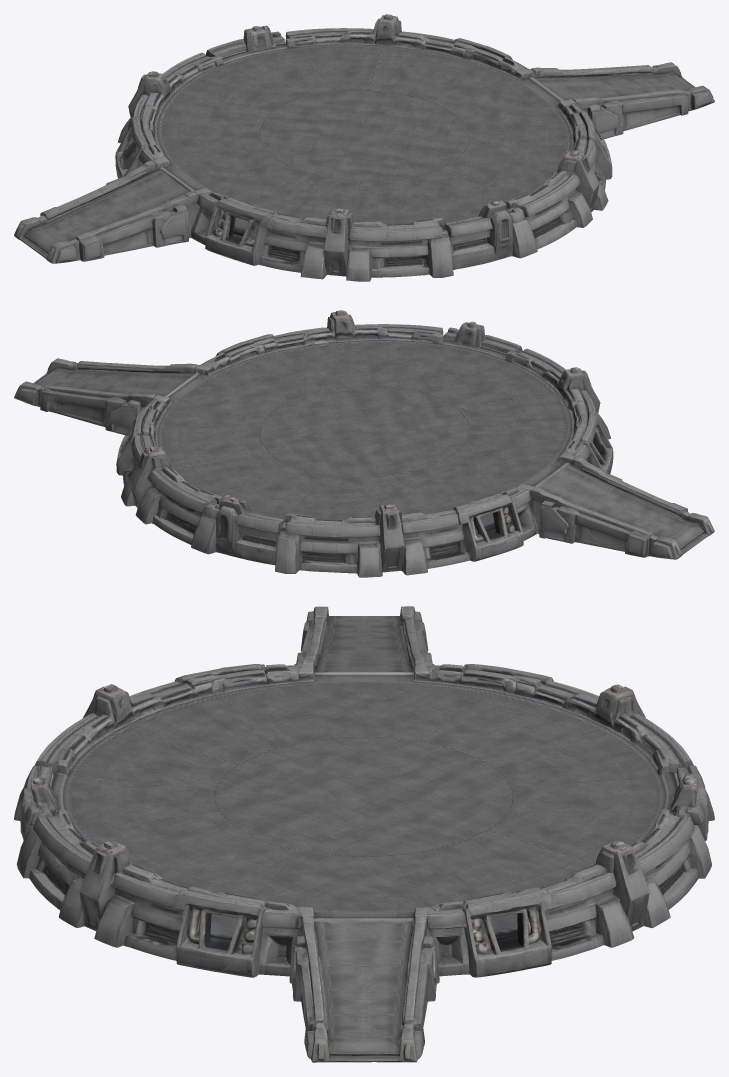
Rendered from imperial_capital_landing_pad_set.glb.
The picture shows the model from 3 angles, top to bottom: view 1: azimuth 30°, elevation 25°; view 2: azimuth 150°, elevation 25°; view 3: azimuth 270°, elevation 25°; orthographic projection. The views are drawn at different scales.
Visible parts, largest first — view 1: mesh_node; view 2: mesh_node; view 3: mesh_node.
Part boxes in pixels (x1,y1,x2,y2): mesh_node: (14,14,714,281); mesh_node: (14,310,714,577); mesh_node: (14,606,714,1062).
Size of the model in its own units: 71.4 by 6.25 by 47.85.
1 material, 1 textured.
